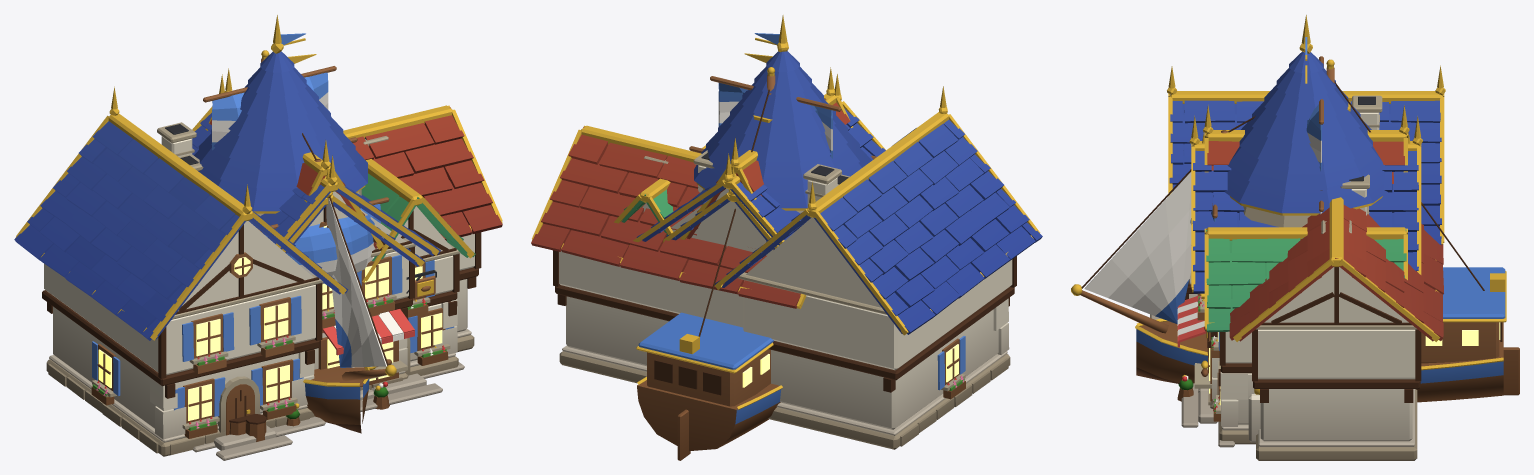
The model's file is kit_v3.glb.
3 renders of one model, left to right at view 1: azimuth 30°, elevation 25°; view 2: azimuth 150°, elevation 25°; view 3: azimuth 270°, elevation 25°, orthographic. The views are drawn at different scales.
Visible parts, largest first — view 1: house_corner_L_mesh, wall_tower_round_mesh, ship_big_mesh, house_bakery_mesh, house_row_3_mesh, house_flowerbox_mesh; view 2: house_corner_L_mesh, ship_big_mesh, wall_tower_round_mesh, house_bakery_mesh, house_row_3_mesh, house_flowerbox_mesh; view 3: house_corner_L_mesh, ship_big_mesh, wall_tower_round_mesh, house_row_3_mesh, house_bakery_mesh, bridge_stone_arch_mesh.
Boxes of the visible parts, bbox=[...] form: house_corner_L_mesh: bbox=[14, 86, 502, 460]; wall_tower_round_mesh: bbox=[194, 15, 367, 401]; ship_big_mesh: bbox=[203, 50, 396, 433]; house_bakery_mesh: bbox=[192, 74, 440, 441]; house_row_3_mesh: bbox=[179, 68, 475, 452]; house_flowerbox_mesh: bbox=[282, 168, 424, 426]; house_corner_L_mesh: bbox=[531, 86, 1042, 449]; ship_big_mesh: bbox=[636, 53, 876, 460]; wall_tower_round_mesh: bbox=[694, 15, 871, 213]; house_bakery_mesh: bbox=[629, 74, 885, 255]; house_row_3_mesh: bbox=[614, 67, 853, 249]; house_flowerbox_mesh: bbox=[663, 165, 778, 249]; house_corner_L_mesh: bbox=[1150, 65, 1445, 460]; ship_big_mesh: bbox=[1071, 56, 1519, 402]; wall_tower_round_mesh: bbox=[1197, 15, 1387, 390]; house_row_3_mesh: bbox=[1181, 104, 1409, 444]; house_bakery_mesh: bbox=[1177, 115, 1422, 408]; bridge_stone_arch_mesh: bbox=[1248, 389, 1260, 442].
Bounding box in the file's own units: 14.86 × 13.92 × 14.77.
